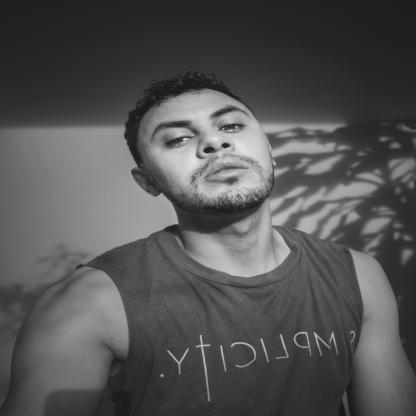Eye: (165, 131, 194, 147), (218, 118, 245, 132)
Mouth: (205, 159, 249, 182)
Nose: (196, 128, 234, 158)
